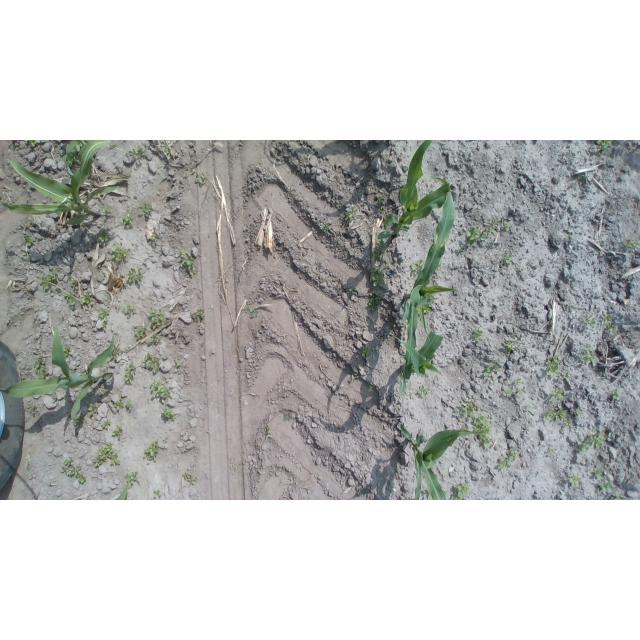Maize: (397, 178, 461, 366), (1, 328, 118, 424), (0, 142, 120, 225), (376, 140, 450, 240), (398, 422, 486, 500), (390, 331, 443, 397), (111, 479, 129, 500)
Weeds: (60, 457, 86, 484), (473, 414, 493, 448), (577, 431, 608, 452), (92, 444, 120, 467), (176, 247, 197, 276), (467, 224, 493, 245), (150, 379, 171, 403), (498, 447, 520, 469), (579, 343, 598, 367), (594, 468, 613, 492), (148, 308, 168, 329), (39, 269, 59, 290), (109, 244, 129, 263), (457, 402, 476, 421), (144, 352, 161, 373), (143, 440, 159, 461), (453, 481, 470, 500), (34, 357, 48, 380), (484, 362, 501, 380), (126, 267, 143, 285), (124, 360, 136, 385), (372, 236, 384, 261), (368, 292, 382, 313), (544, 408, 568, 420), (372, 265, 385, 287), (546, 356, 560, 376), (341, 204, 357, 221), (493, 219, 512, 233), (596, 141, 612, 156), (128, 145, 145, 159), (125, 472, 138, 489), (137, 201, 152, 215), (97, 229, 112, 243), (81, 291, 95, 306), (412, 259, 425, 275), (504, 340, 521, 352), (569, 473, 582, 488), (123, 214, 136, 229), (68, 153, 81, 168), (135, 324, 147, 340), (160, 407, 176, 419), (551, 388, 564, 402), (244, 306, 258, 319), (624, 238, 640, 249), (184, 472, 197, 485), (192, 310, 205, 323), (65, 291, 76, 306), (472, 326, 482, 342), (98, 308, 110, 321), (417, 386, 431, 397), (70, 141, 84, 152), (583, 317, 597, 328), (113, 396, 124, 410), (148, 332, 160, 344), (124, 303, 137, 314), (572, 175, 585, 185), (112, 424, 122, 437), (26, 404, 36, 417), (196, 171, 205, 185), (602, 313, 613, 324), (609, 325, 620, 336), (375, 196, 385, 208), (99, 203, 109, 215), (611, 492, 624, 501), (361, 347, 372, 357), (88, 404, 97, 416), (24, 235, 33, 247), (63, 346, 71, 359), (320, 222, 330, 232), (424, 489, 433, 500), (504, 255, 513, 266), (72, 418, 81, 428), (424, 304, 433, 314), (610, 389, 619, 399), (109, 349, 117, 360), (164, 144, 171, 156), (24, 141, 36, 148), (504, 388, 513, 397), (517, 388, 526, 397), (563, 372, 572, 381), (349, 286, 358, 295), (101, 420, 111, 428), (514, 378, 524, 386), (124, 400, 133, 408), (435, 260, 441, 271), (430, 296, 438, 304), (265, 425, 272, 434), (154, 490, 161, 499), (150, 232, 157, 241), (56, 320, 61, 332), (51, 393, 57, 403), (284, 414, 292, 421), (460, 245, 468, 252), (564, 420, 573, 426), (101, 323, 108, 330), (71, 278, 78, 285), (550, 449, 557, 455), (22, 251, 29, 257), (567, 233, 574, 239), (162, 437, 168, 443), (576, 411, 582, 417), (520, 267, 525, 273), (351, 375, 356, 381), (95, 264, 101, 269), (106, 295, 111, 301), (368, 385, 373, 390), (444, 492, 448, 497), (176, 361, 180, 366), (356, 491, 361, 495), (528, 406, 532, 410), (388, 260, 393, 263)
